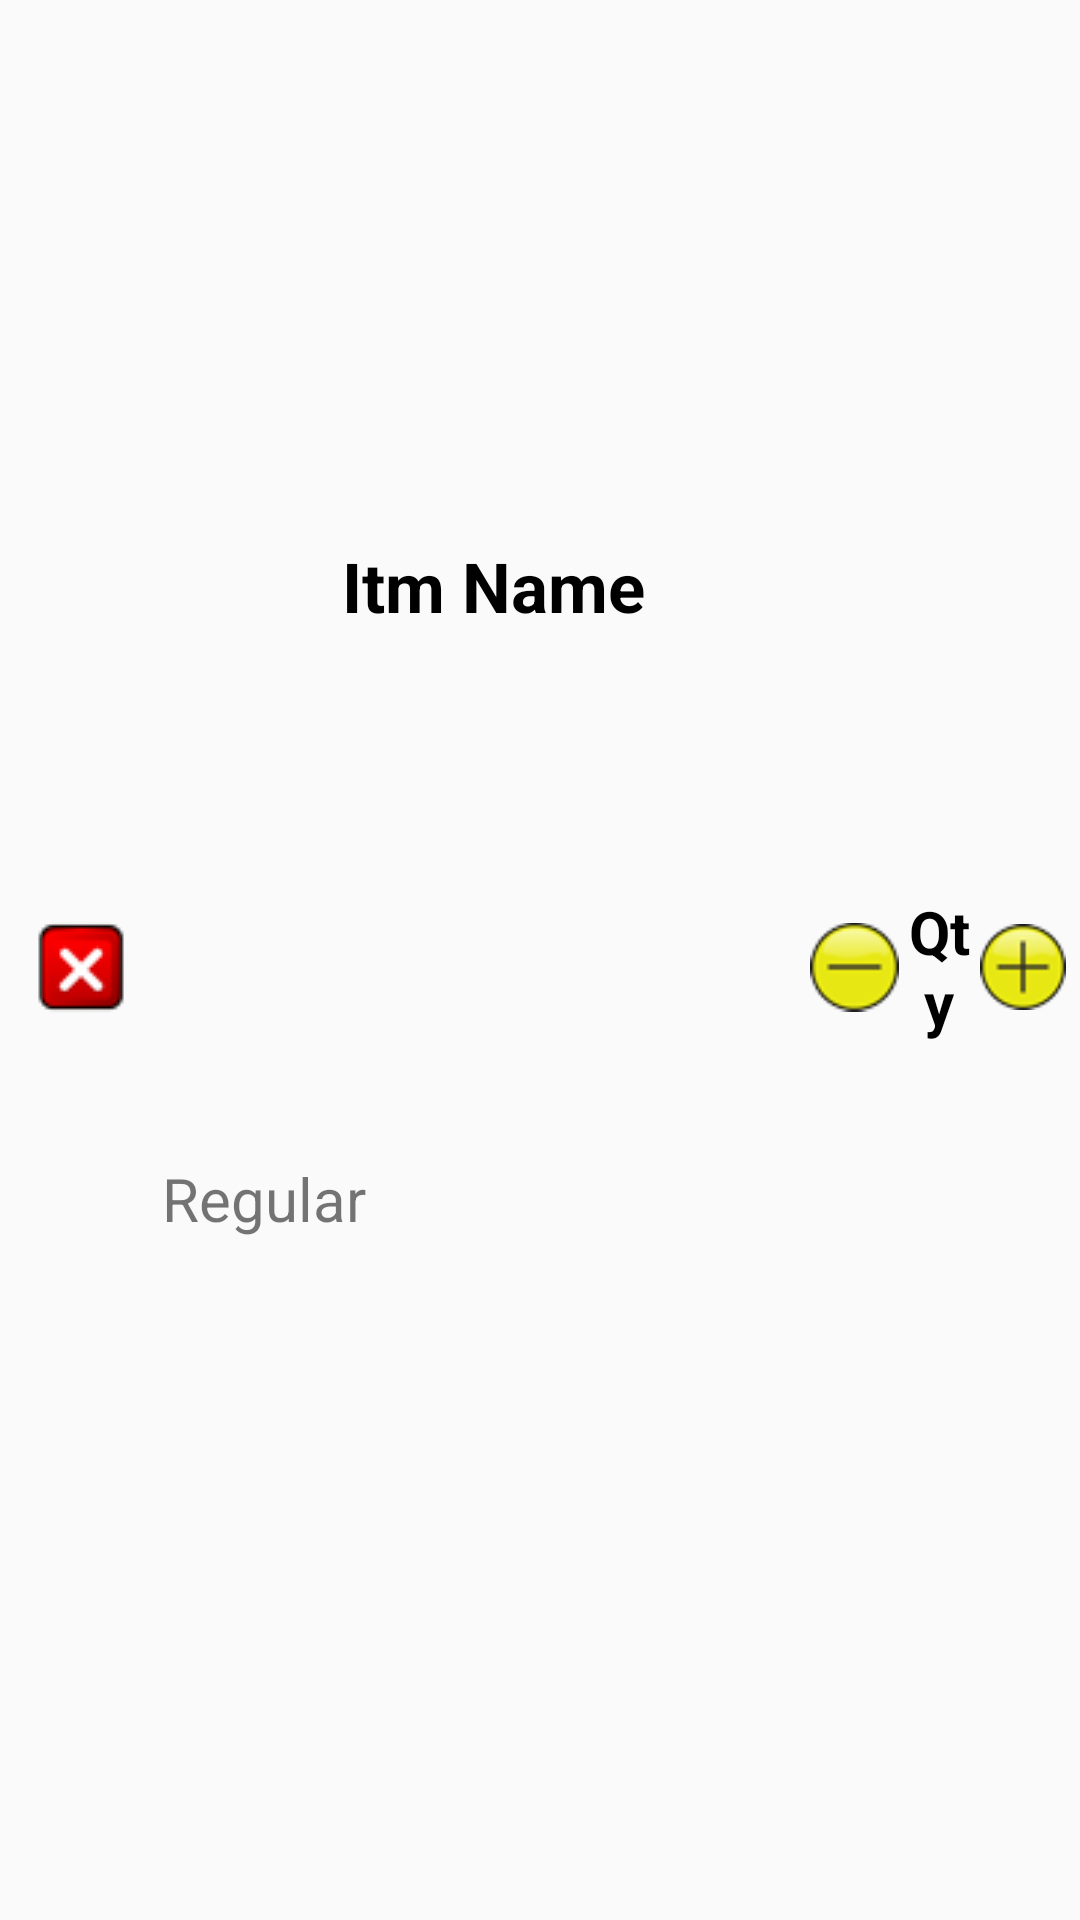

Locate icon controls on the screen. Image size 1080x1920, boxes as box(x1, y1, x2, y2).
delete: box(38, 924, 124, 1010)
minus: box(810, 923, 899, 1012)
plus: box(980, 924, 1066, 1010)
